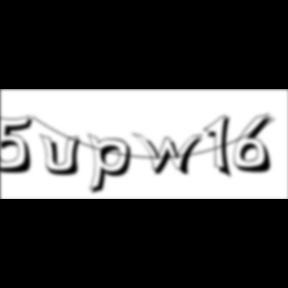1: (202, 114, 237, 182)
5: (1, 114, 40, 176)
6: (234, 112, 278, 176)
p: (88, 132, 138, 198)
u: (40, 132, 88, 178)
w: (132, 132, 210, 178)
